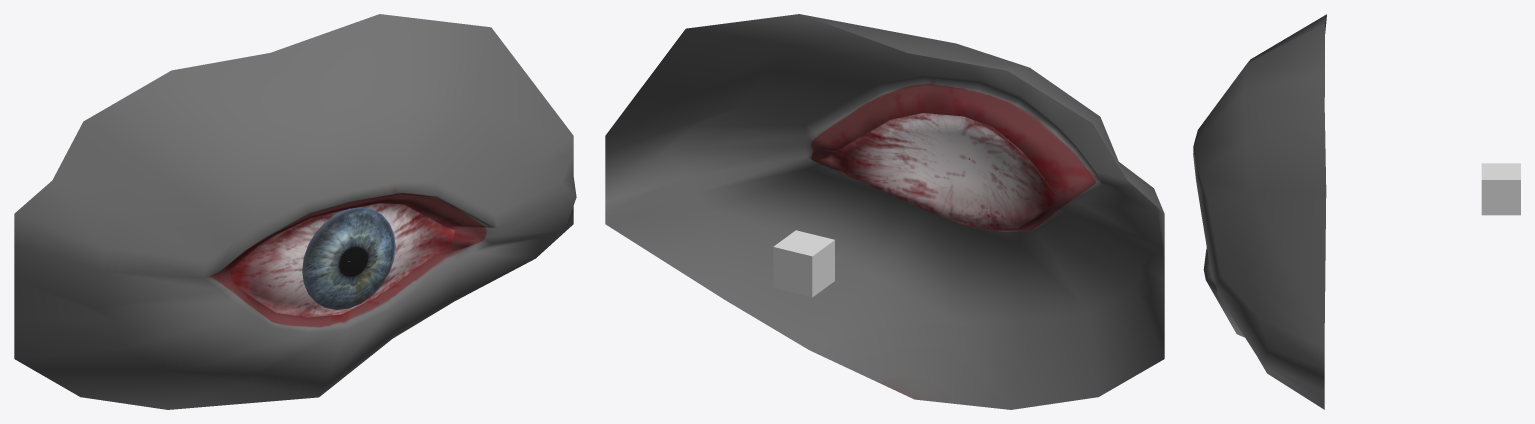
The model's file is WallEye.fbx.
3 renders of one model, left to right at view 1: azimuth 30°, elevation 25°; view 2: azimuth 150°, elevation 25°; view 3: azimuth 270°, elevation 25°, orthographic. The views are drawn at different scales.
Parts seen in each view (by area): view 1: wallEye, iris; view 2: wallEye, IrisController; view 3: wallEye, IrisController.
Part boxes in pixels (x1,y1,x2,y2): wallEye: (14, 14, 576, 409); iris: (302, 207, 395, 309); wallEye: (605, 14, 1164, 409); IrisController: (773, 230, 834, 297); wallEye: (1193, 14, 1326, 409); IrisController: (1481, 163, 1520, 215).
Bounding box in the file's own units: 711 × 434 × 419.
